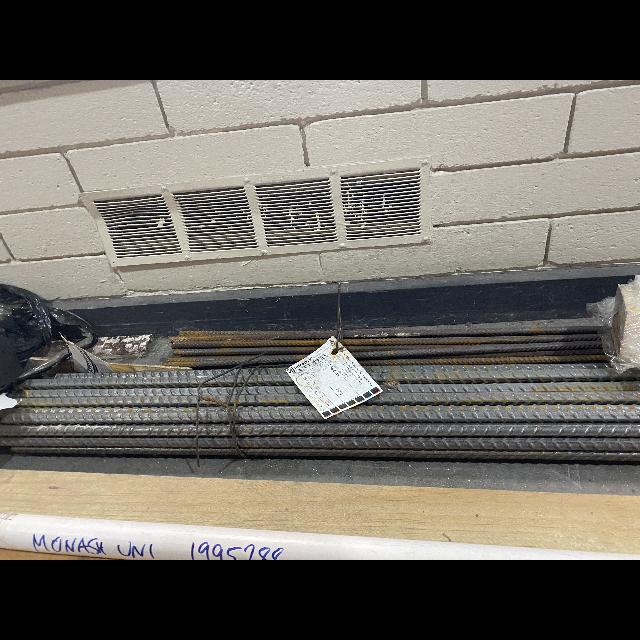Ferrous Metal: (0, 328, 640, 461)
